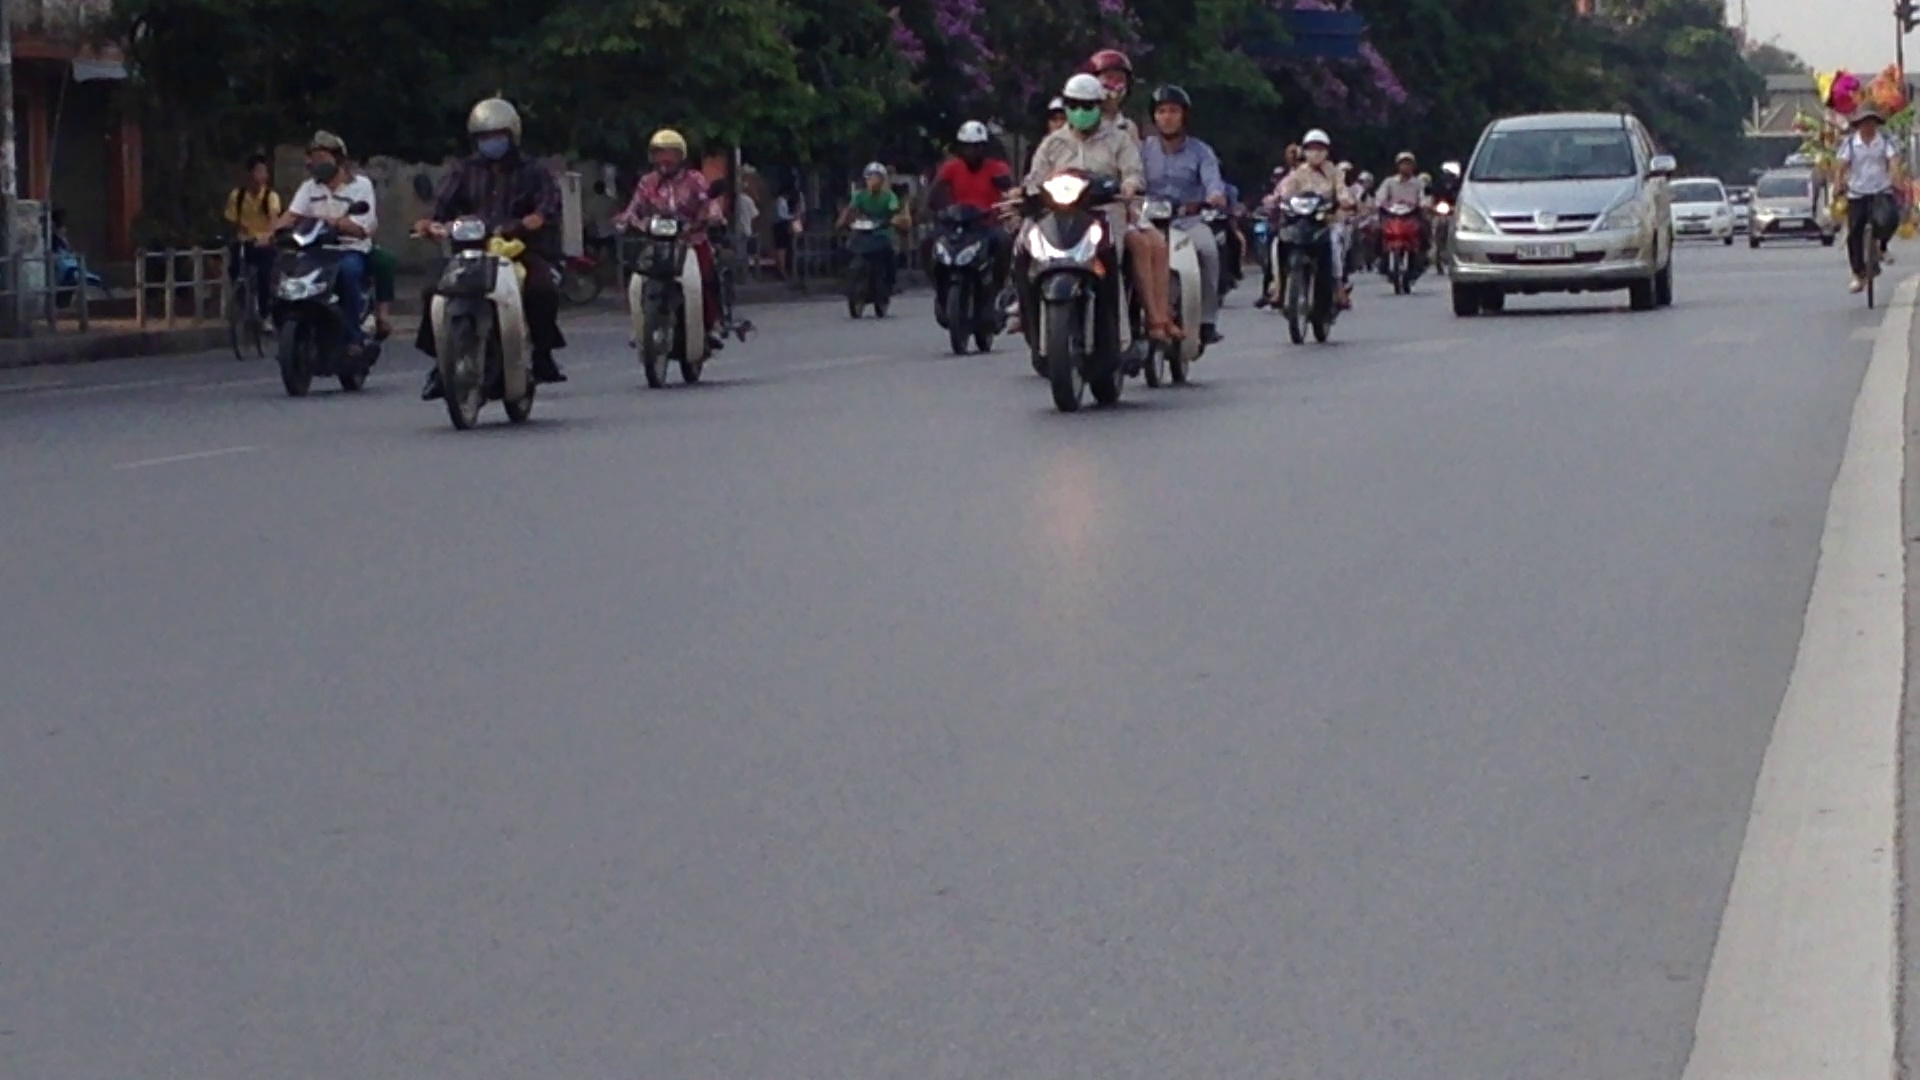vehicle-plate: (1507, 239, 1581, 263)
